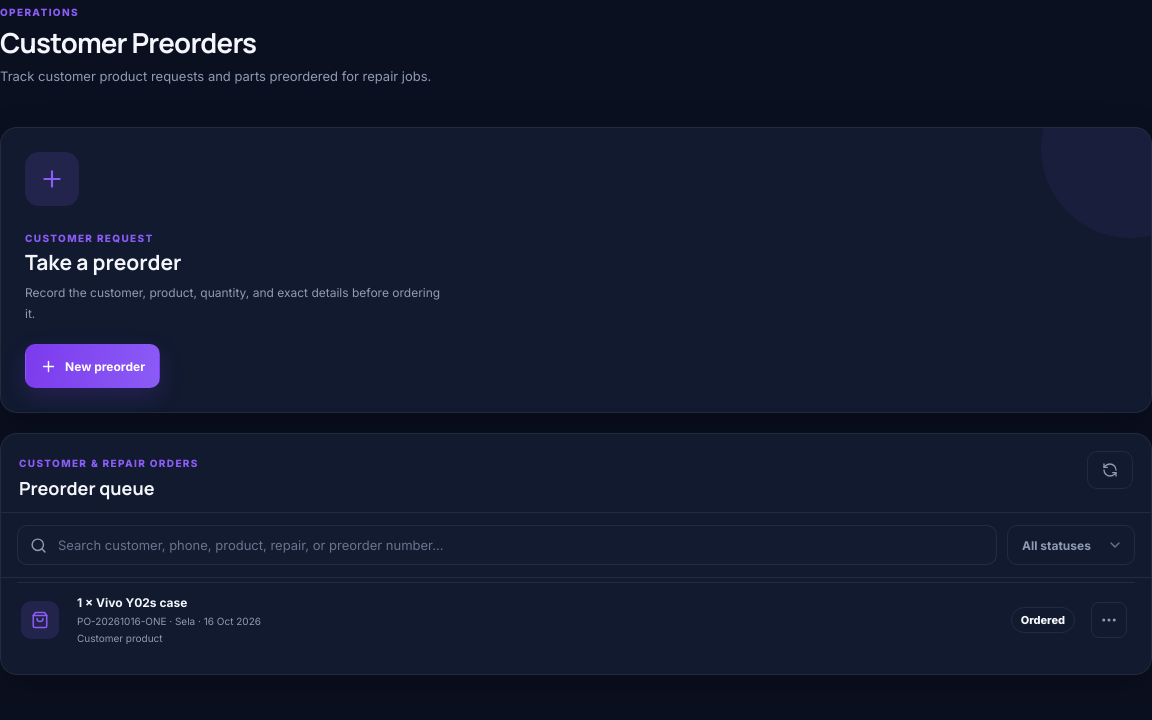
Test case: CustomerPreorderWorkspace › shows the arrival action even when no completed purchase is eligible yet
The width and height of the screenshot is (1152, 720).
Click the button with aria-label "Open preorder PO-20261016-ONE" at (40, 620), box [17,582,1135,658]
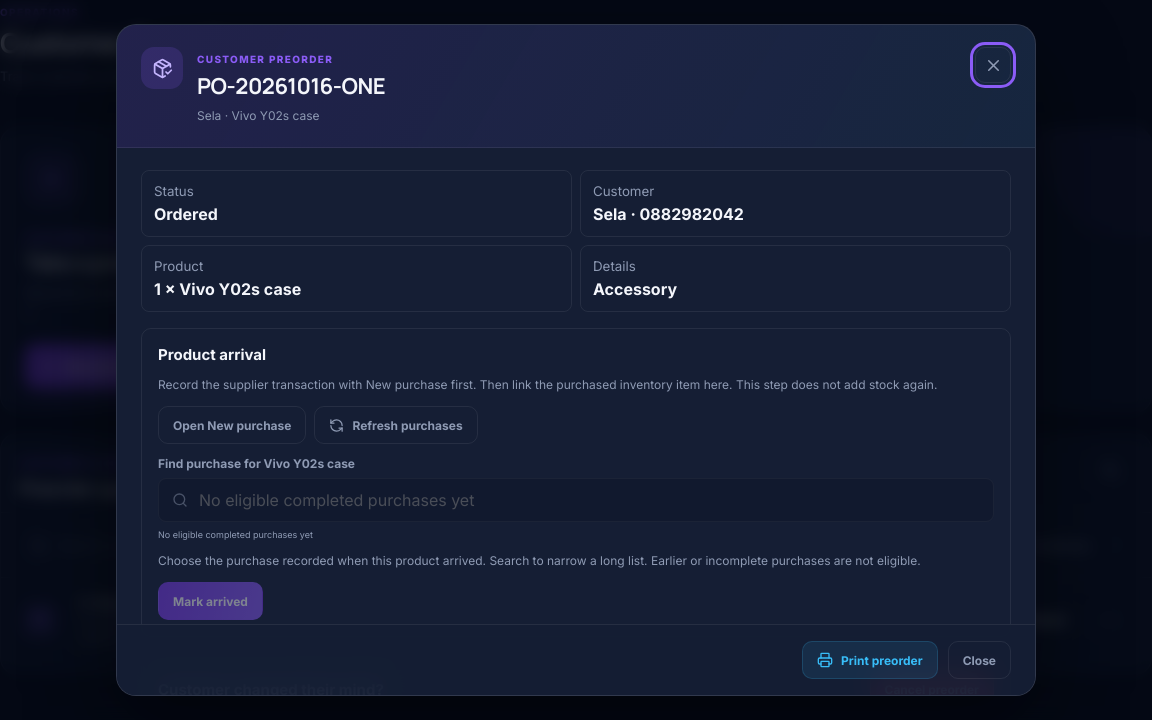
Now the button "Mark arrived" is disabled, box [158,582,263,620]
